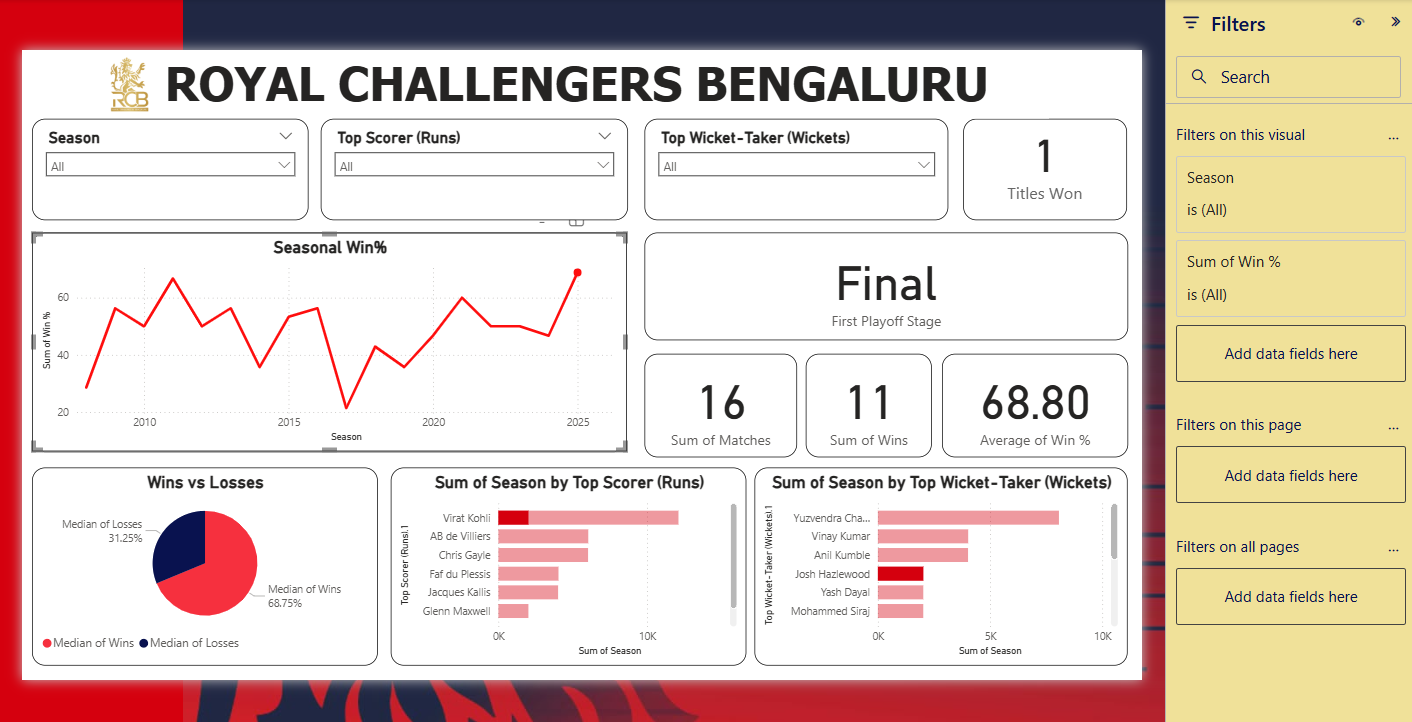

What the dashboard file says about the page in this screenshot:
{"tool":"powerbi","page":{"name":"Page 1","canvas":[1280,720],"ordinal":0},"visuals":[{"type":"lineChart","title":"Seasonal Win%","fields":{"Category":["rcb_combined_2008_2025_updated.Season"],"Y":["Sum(rcb_combined_2008_2025_updated.Win %)"]},"box":[11.5,208.2,680.3,250.8],"z":0},{"type":"card","fields":{"Values":["Sum(rcb_combined_2008_2025_updated.Matches)"]},"box":[710.8,347.2,174.3,118],"z":1000},{"type":"card","fields":{"Values":["Sum(rcb_combined_2008_2025_updated.Wins)"]},"box":[896.1,347.2,144.1,118],"z":2000},{"type":"card","fields":{"Values":["Avg(rcb_combined_2008_2025_updated.Win %)"]},"box":[1051.1,347.2,212.7,118],"z":3000},{"type":"pieChart","title":"Wins vs Losses","fields":{"Y":["Median(rcb_combined_2008_2025_updated.Wins)","Median(rcb_combined_2008_2025_updated.Losses)"]},"box":[11.5,477,395.1,226.2],"z":4000},{"type":"clusteredBarChart","title":"Sum of Season by Top Scorer (Runs)","fields":{"Category":["rcb_combined_2008_2025_updated.Top Scorer (Runs).1"],"Y":["Sum(rcb_combined_2008_2025_updated.Season)"]},"box":[421.3,477,406.6,226.2],"z":5000},{"type":"clusteredBarChart","title":"Sum of Season by Top Wicket-Taker (Wickets)","fields":{"Category":["rcb_combined_2008_2025_updated.Top Wicket-Taker (Wickets).1"],"Y":["Sum(rcb_combined_2008_2025_updated.Season)"]},"box":[837.7,477,426.2,226.2],"z":6000},{"type":"textbox","box":[1075.4,78.7,186.9,116.4],"z":7000},{"type":"card","fields":{"Values":["Min(rcb_combined_2008_2025_updated.Playoff Stage)"]},"box":[711.5,208.2,552.5,123],"z":8000},{"type":"textbox","box":[0,0,1173.8,78.7],"z":9000},{"type":"image","box":[75.4,0,95.1,78.7],"z":10000},{"type":"slicer","fields":{"Values":["rcb_combined_2008_2025_updated.Season"]},"box":[11.5,78.7,316.4,116.4],"z":11000},{"type":"slicer","fields":{"Values":["rcb_combined_2008_2025_updated.Top Scorer (Runs).1"]},"box":[341,78.7,350.8,116.4],"z":12000},{"type":"slicer","fields":{"Values":["rcb_combined_2008_2025_updated.Top Wicket-Taker (Wickets).1"]},"box":[711.5,78.7,347.5,116.4],"z":13000}]}

Visuals, with their boxes on the page's 1280x720 design canvas (x1, y1, x2, y2). These are canvas units, not pixel positions in the 1412x722 screenshot, which may show the page scaled, cropped or inside an application window:
"Seasonal Win%" lineChart: (x1=12, y1=208, x2=692, y2=459)
card - Sum(rcb_combined_2008_2025_updated.Matches): (x1=711, y1=347, x2=885, y2=465)
card - Sum(rcb_combined_2008_2025_updated.Wins): (x1=896, y1=347, x2=1040, y2=465)
card - Avg(rcb_combined_2008_2025_updated.Win %): (x1=1051, y1=347, x2=1264, y2=465)
"Wins vs Losses" pieChart: (x1=12, y1=477, x2=407, y2=703)
"Sum of Season by Top Scorer (Runs)" clusteredBarChart: (x1=421, y1=477, x2=828, y2=703)
"Sum of Season by Top Wicket-Taker (Wickets)" clusteredBarChart: (x1=838, y1=477, x2=1264, y2=703)
textbox: (x1=1075, y1=79, x2=1262, y2=195)
card - Min(rcb_combined_2008_2025_updated.Playoff Stage): (x1=712, y1=208, x2=1264, y2=331)
textbox: (x1=0, y1=0, x2=1174, y2=79)
image: (x1=75, y1=0, x2=170, y2=79)
slicer - rcb_combined_2008_2025_updated.Season: (x1=12, y1=79, x2=328, y2=195)
slicer - rcb_combined_2008_2025_updated.Top Scorer (Runs).1: (x1=341, y1=79, x2=692, y2=195)
slicer - rcb_combined_2008_2025_updated.Top Wicket-Taker (Wickets).1: (x1=712, y1=79, x2=1059, y2=195)
